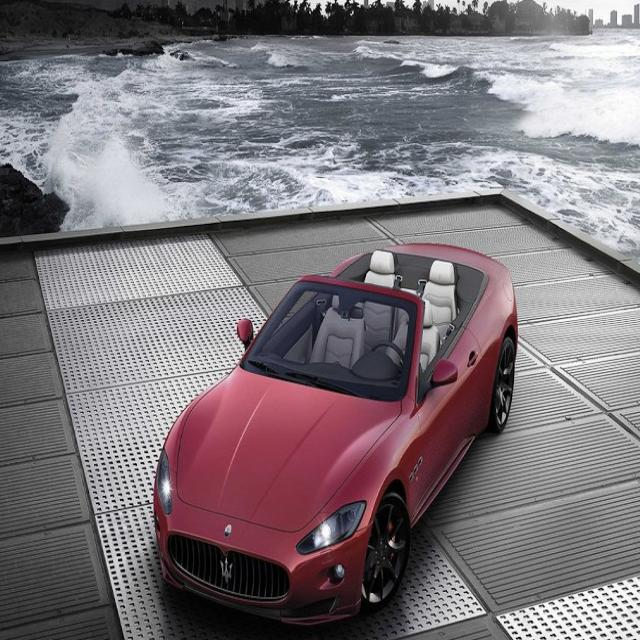front_bumper: (158, 497, 364, 624)
front_glass: (240, 280, 418, 401)
front_left_side_door: (408, 322, 489, 485)
front_left_side_light: (295, 498, 368, 556)
front_left_side_mirror: (428, 358, 459, 389)
front_right_side_light: (158, 445, 178, 517)
front_right_side_mirror: (233, 315, 255, 351)
wheel: (357, 490, 414, 611), (490, 334, 519, 430)
